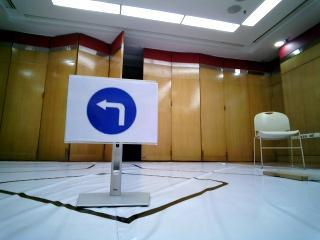left: (69, 83, 152, 144)
